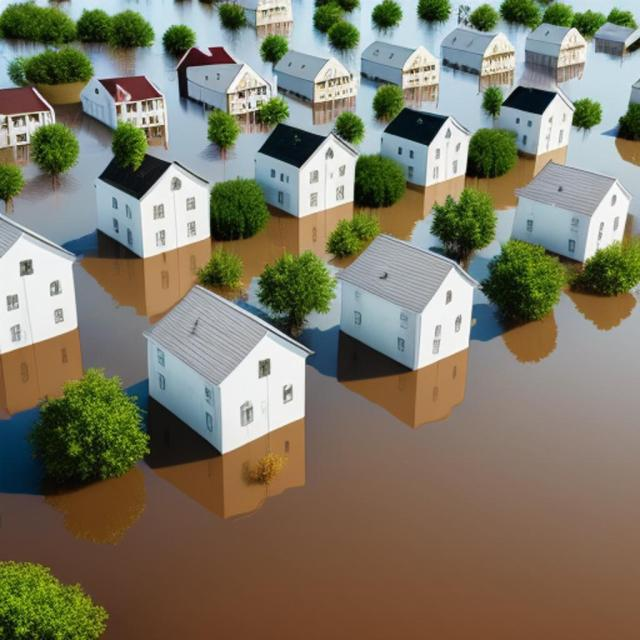flood: (0, 288, 640, 640), (0, 104, 354, 437), (371, 20, 640, 280), (38, 0, 274, 183), (279, 0, 500, 153), (0, 38, 49, 87), (558, 0, 640, 23), (473, 0, 498, 7), (0, 0, 12, 10), (453, 0, 473, 5), (281, 27, 286, 31)
house: (150, 277, 312, 459), (333, 228, 481, 381), (516, 153, 634, 274), (92, 149, 216, 264), (0, 210, 92, 358), (256, 116, 356, 226), (389, 102, 469, 195), (182, 44, 276, 120), (501, 80, 571, 161), (86, 76, 168, 142), (280, 44, 356, 112), (368, 37, 444, 101), (446, 24, 516, 84), (359, 42, 440, 92), (1, 86, 53, 162), (524, 22, 585, 79), (593, 17, 638, 57), (255, 1, 294, 44)
